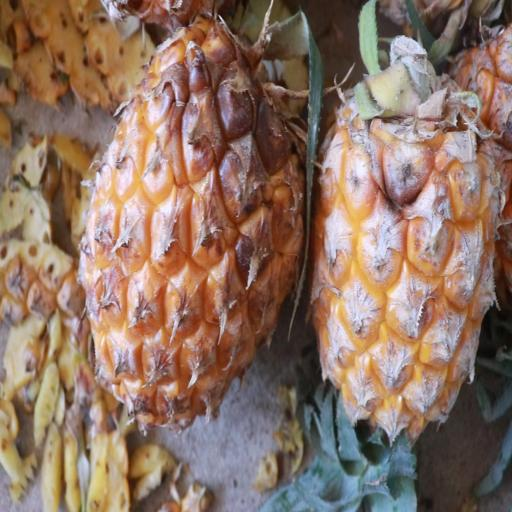Pineapple - v8 v1: (74, 12, 310, 438), (304, 32, 506, 493)
